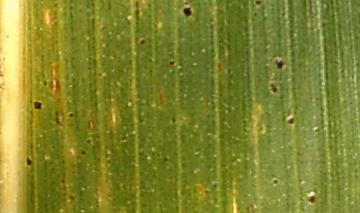tarspot: (177, 4, 196, 18), (271, 55, 287, 71), (265, 81, 282, 96), (30, 98, 46, 113), (305, 191, 318, 206), (158, 153, 173, 166), (23, 153, 35, 169), (166, 113, 179, 125), (284, 114, 296, 126), (165, 57, 178, 68), (82, 134, 94, 145), (271, 176, 282, 187), (77, 147, 89, 157), (57, 177, 69, 185), (138, 36, 147, 46), (66, 110, 76, 118), (251, 1, 267, 6)
